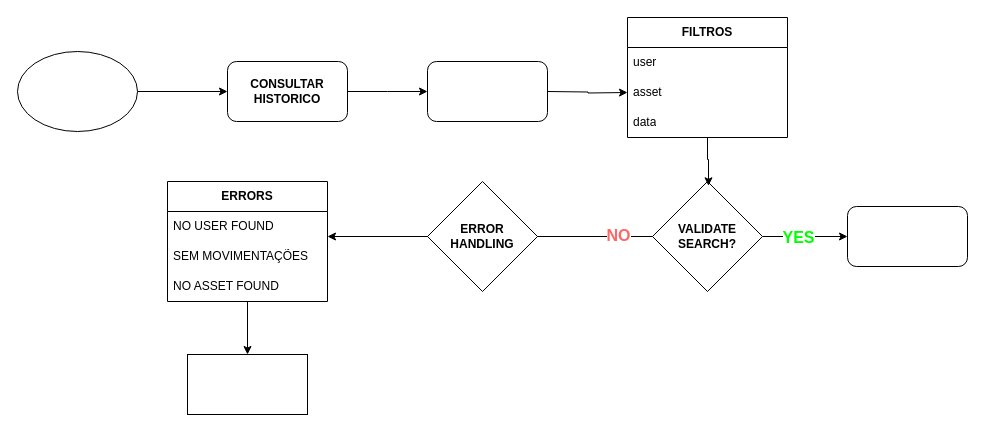
The diagram is 985 pixels wide and 432 high, and some of its shapes have lost their labels. The shapes that lost their labels are listed below. From the top down, each one's centre as x and y in pixels, then its label:
At [487,91]: "LISTA DE MOVIMENTAÇÕES".
At [907,236]: "SHOW RESULTS".
At [247,384]: "SHOW ERROR".
